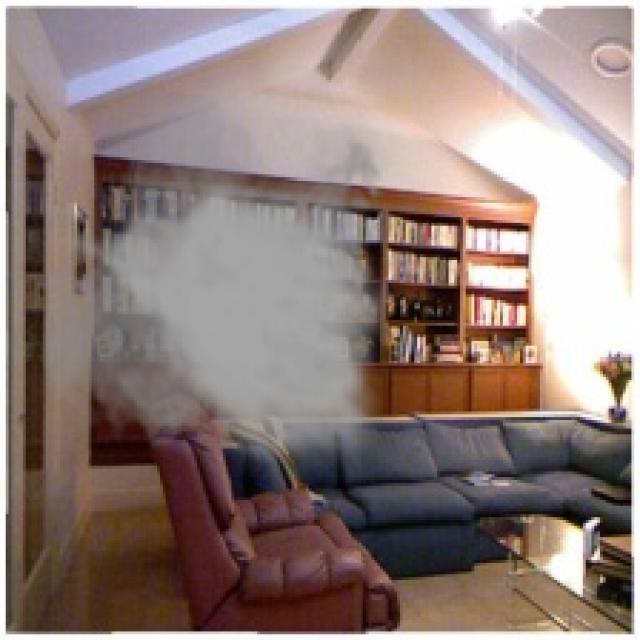smoke: (37, 94, 394, 477)
